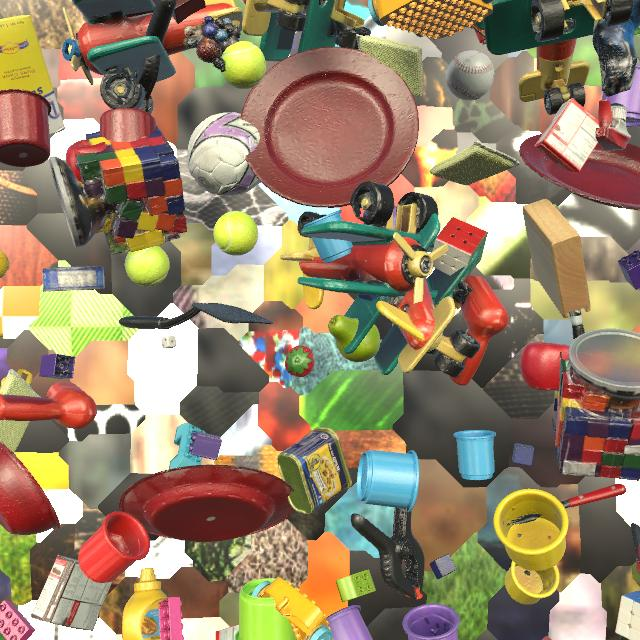ycb_004_sugar_box: (0, 15, 65, 135)
ycb_006_mustard_bottle: (122, 568, 168, 640)
ycb_007_tuna_fish_can: (42, 266, 105, 292)
ycb_008_pudding_box: (30, 554, 113, 631)
ycb_009_gelatin_box: (535, 98, 599, 172), (215, 624, 239, 640)
ycb_010_potted_meat_can: (277, 427, 352, 514)
ycb_012_strawberry: (285, 345, 314, 377)
ycb_013_apple: (520, 342, 569, 391), (66, 139, 108, 182), (636, 543, 640, 575)
ycb_014_lemon: (0, 250, 9, 278)
ycb_015_peach: (321, 0, 323, 1)
ycb_016_pear: (328, 315, 380, 362)
